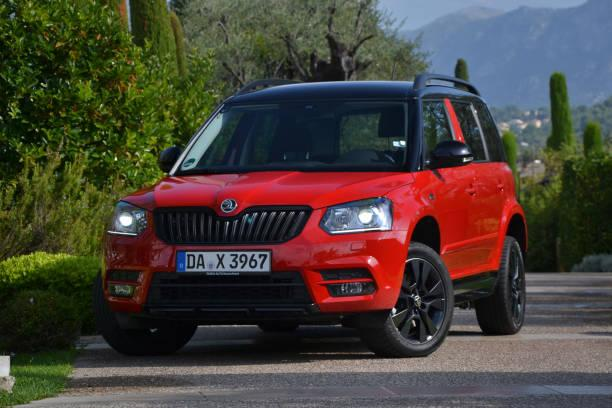skoda: (218, 193, 241, 214)
